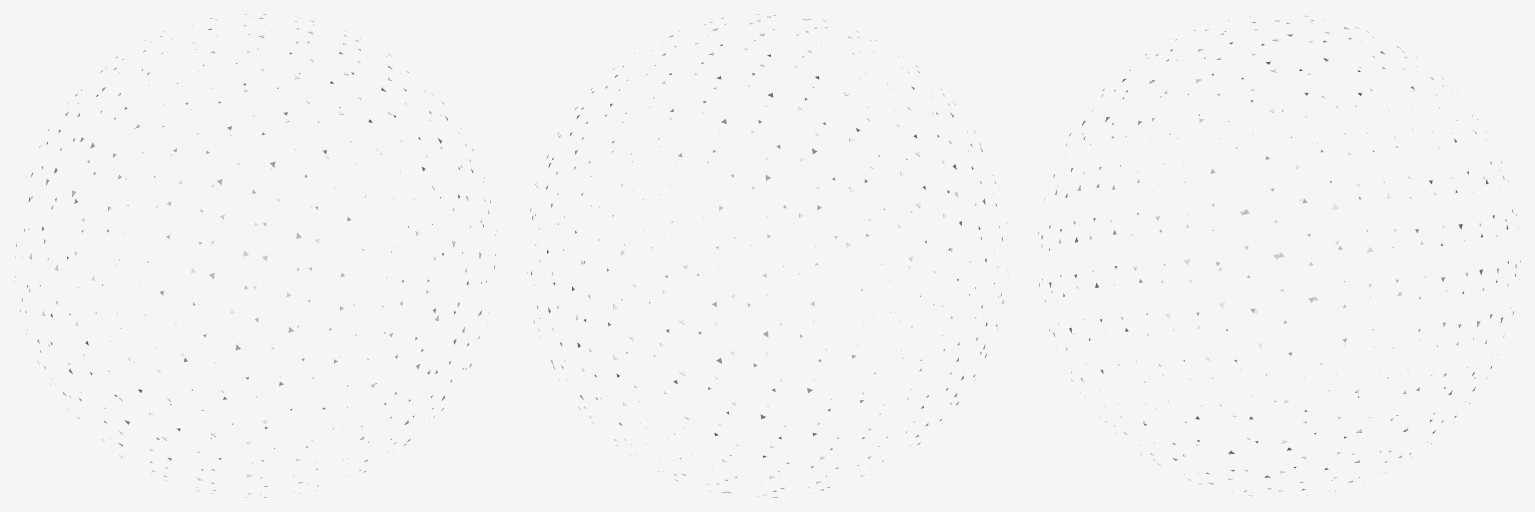
File: star.fbx
The picture shows the model from 3 angles, left to right: view 1: azimuth 30°, elevation 25°; view 2: azimuth 150°, elevation 25°; view 3: azimuth 270°, elevation 25°; orthographic projection.
Visible parts, largest first — view 1: Schnee_Schnee_0; view 2: Schnee_Schnee_0; view 3: Schnee_Schnee_0.
Part boxes in pixels (x1=…): Schnee_Schnee_0: x1=14, y1=14, x2=496, y2=497; Schnee_Schnee_0: x1=525, y1=14, x2=1008, y2=497; Schnee_Schnee_0: x1=1037, y1=14, x2=1520, y2=497.
Size of the model in its own units: 27681 by 27687 by 27688.
Materials: 1 (1 with a texture image).
